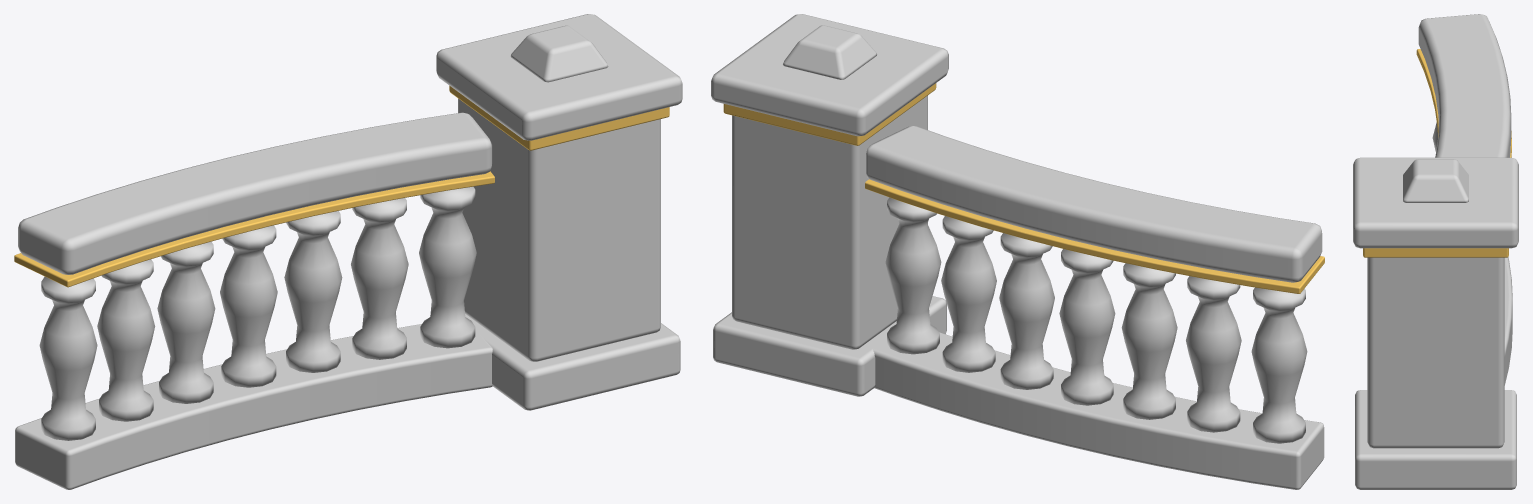
The model's file is Lobby_PROP_BalustradeCurved.fbx.
3 views of the same model, side by side, from view 1: azimuth 30°, elevation 25°; view 2: azimuth 150°, elevation 25°; view 3: azimuth 270°, elevation 25° (orthographic). The views are drawn at different scales.
Parts seen in each view (by area): view 1: Lobby_PROP_BalustradeCurved__Marble, Lobby_PROP_BalustradeCurved__Gold; view 2: Lobby_PROP_BalustradeCurved__Marble, Lobby_PROP_BalustradeCurved__Gold; view 3: Lobby_PROP_BalustradeCurved__Marble, Lobby_PROP_BalustradeCurved__Gold.
Boxes of the visible parts, <box> form: Lobby_PROP_BalustradeCurved__Marble: <box>15,14,682,489</box>; Lobby_PROP_BalustradeCurved__Gold: <box>14,85,669,287</box>; Lobby_PROP_BalustradeCurved__Marble: <box>711,14,1324,489</box>; Lobby_PROP_BalustradeCurved__Gold: <box>723,83,1324,293</box>; Lobby_PROP_BalustradeCurved__Marble: <box>1353,14,1518,489</box>; Lobby_PROP_BalustradeCurved__Gold: <box>1363,49,1511,257</box>.
Bounding box in the file's own units: 8.56 × 4.45 × 2.3.
